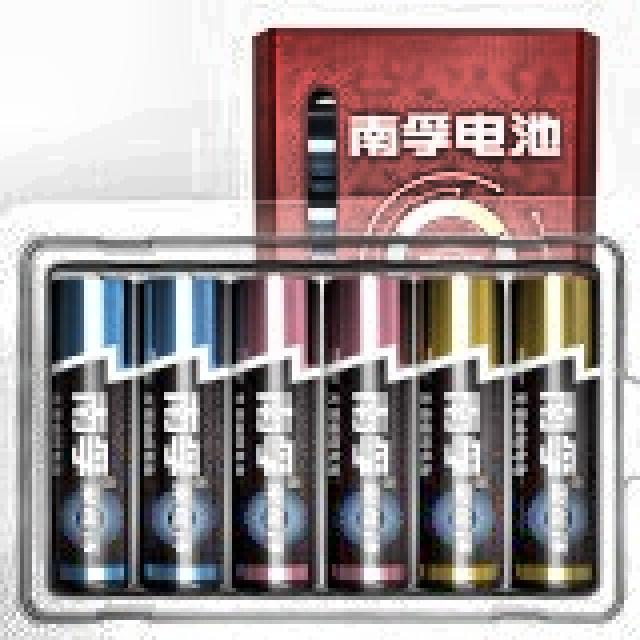Non-Valuable Waste - Batteries: (54, 272, 595, 593)
